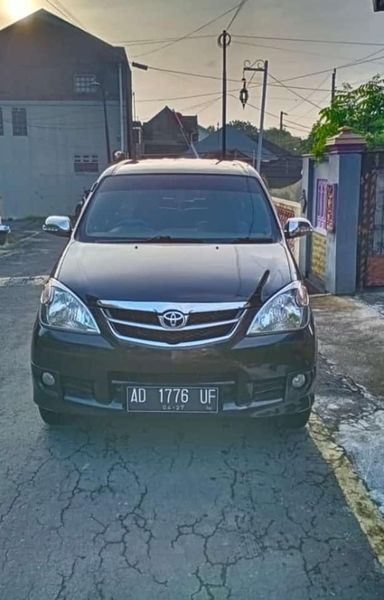plate: (126, 382, 220, 414)
